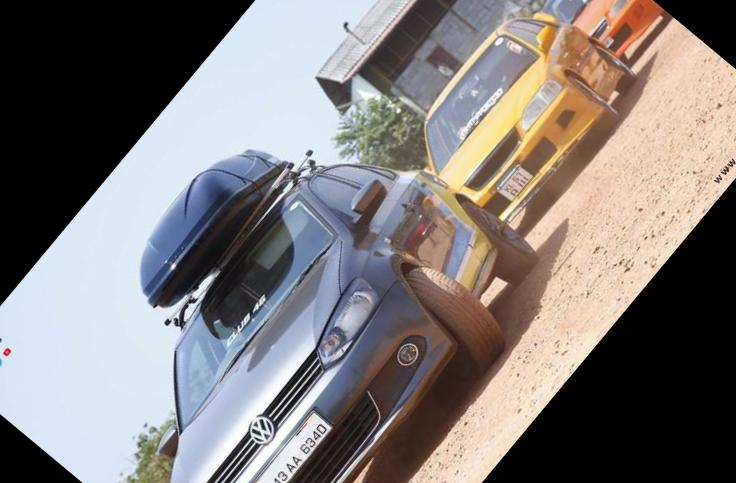plate: (232, 396, 346, 483)
